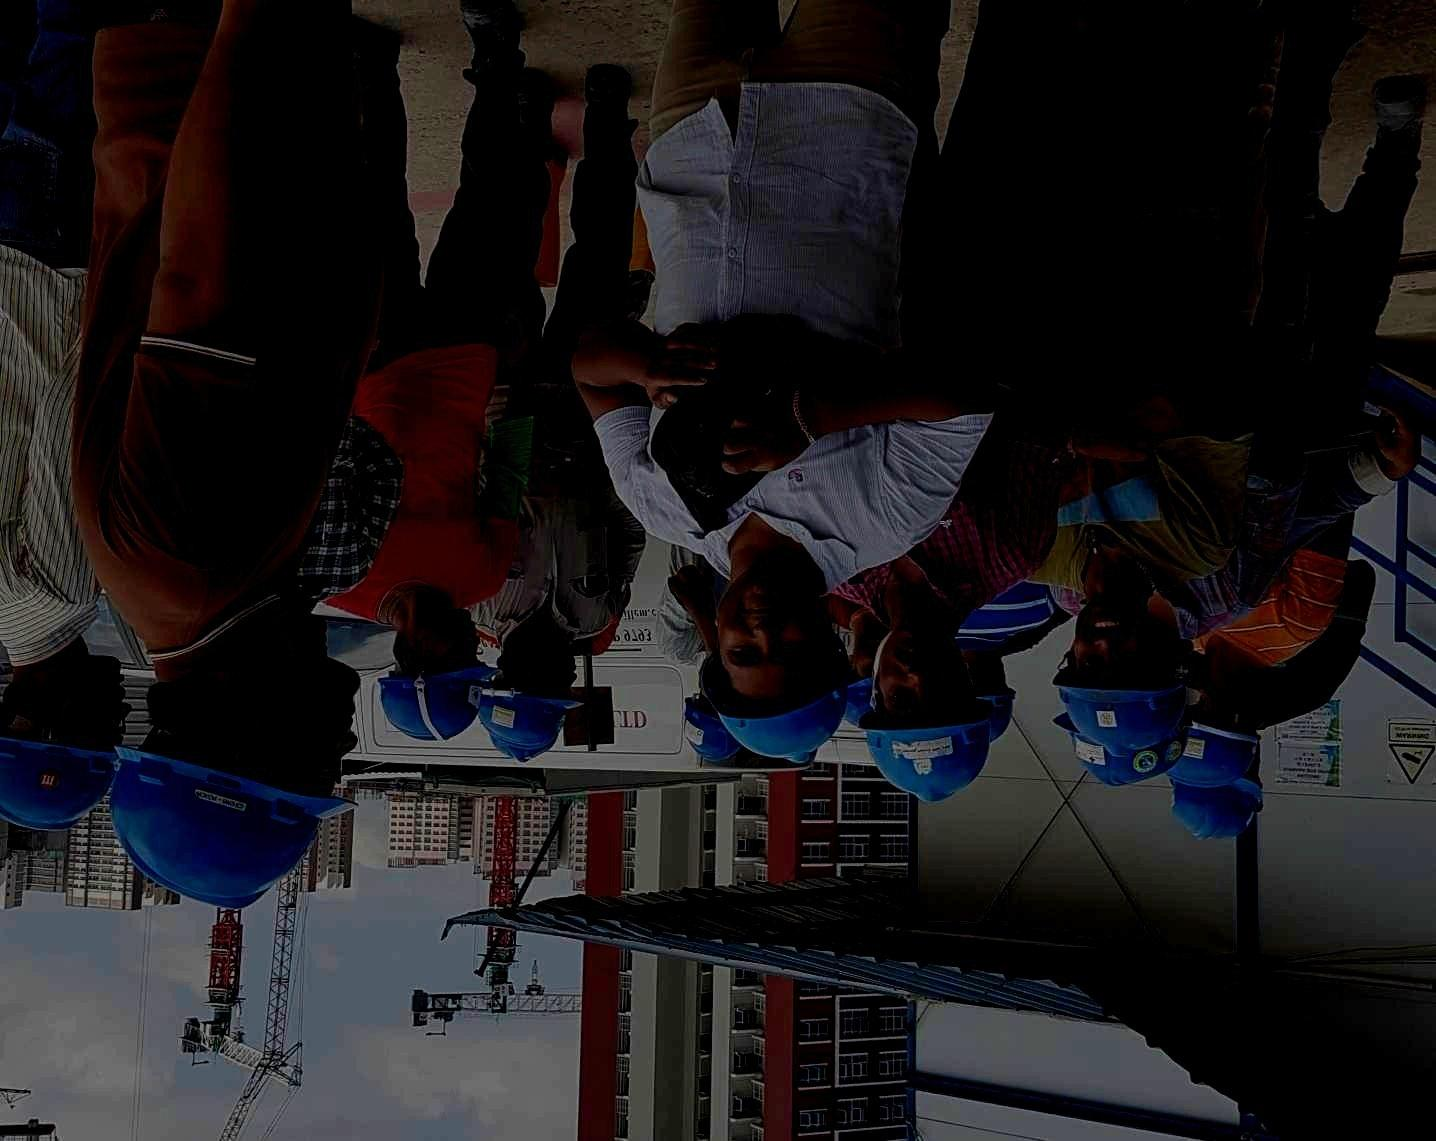helmet: (110, 662, 359, 910), (709, 569, 851, 763), (856, 629, 997, 807), (1, 657, 132, 833), (1051, 603, 1187, 758), (376, 608, 498, 741), (479, 632, 585, 763), (1050, 712, 1191, 787), (1164, 704, 1260, 788), (1169, 765, 1263, 841), (960, 645, 1016, 741), (681, 692, 741, 760), (842, 649, 873, 728)
